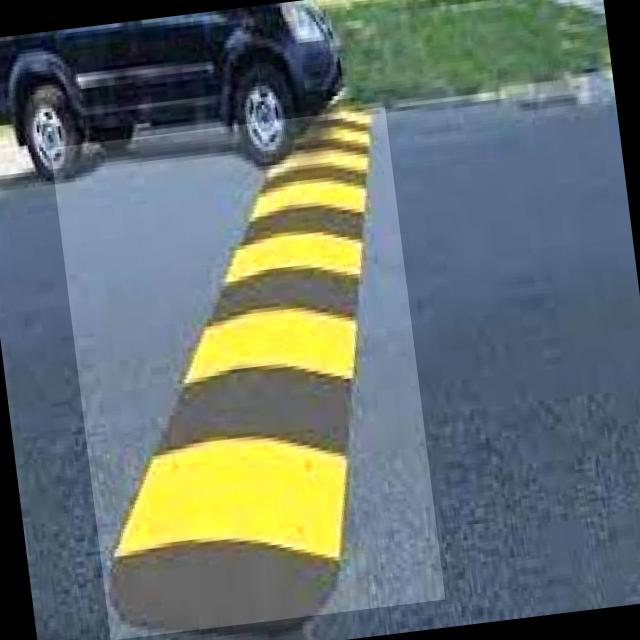bump: (50, 106, 445, 640)
